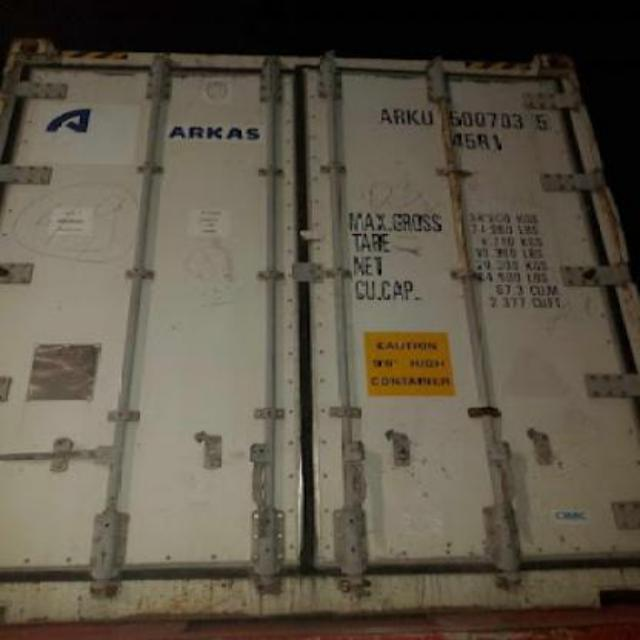0: (498, 111, 514, 129), (474, 109, 488, 127), (462, 108, 474, 128)
3: (512, 111, 526, 129)
5: (448, 108, 462, 128), (536, 113, 550, 131)
7: (486, 109, 502, 129)
A: (374, 106, 394, 128)
K: (406, 106, 422, 128)
R: (392, 106, 406, 126)
U: (420, 108, 436, 128)
